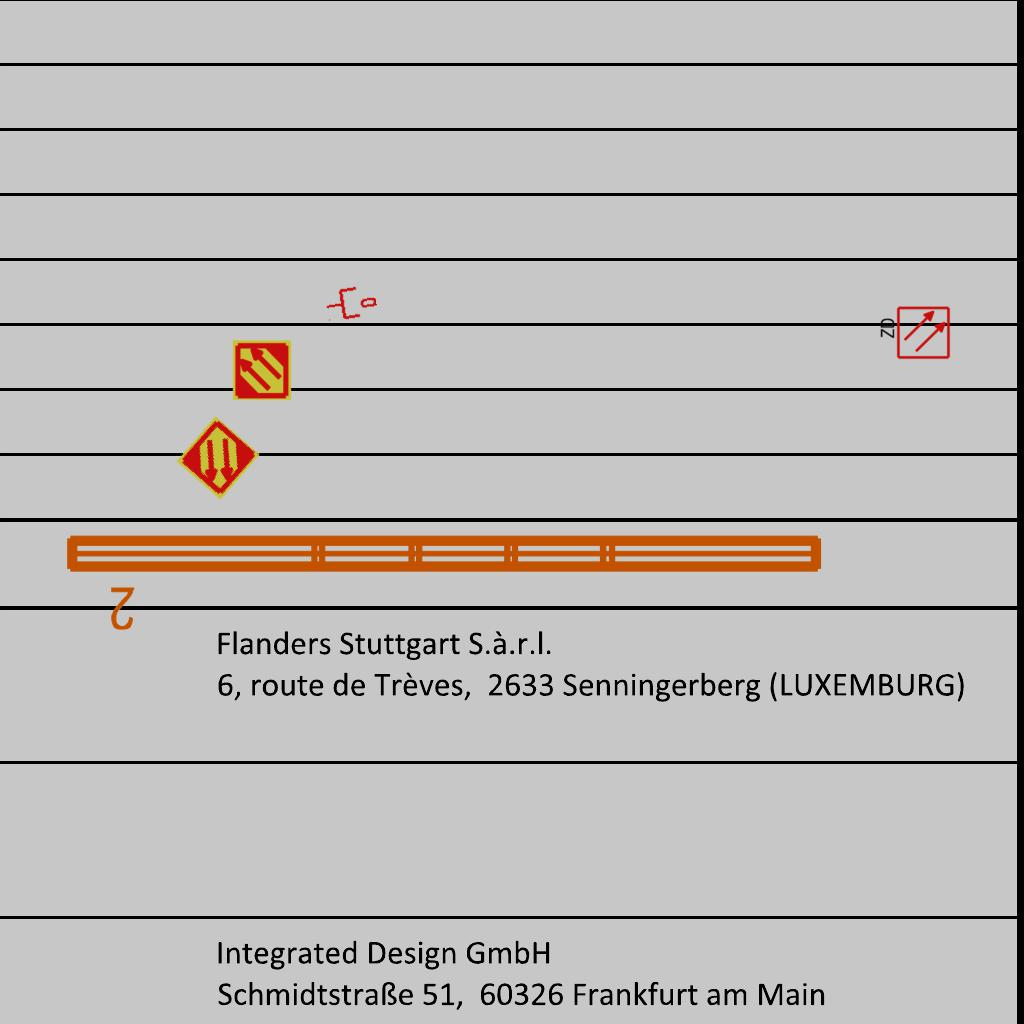ASR_Ansaugrauchmelder: (174, 414, 262, 502), (231, 339, 293, 401)
Ambulanz_Pendelleuchte_LED: (58, 523, 832, 635)
Datenanschluss_einfach: (323, 282, 379, 324)
ZD_Melder_in_Zwischendecke_mit_Revisionsoeffnung_mind_40_x_40_cm: (877, 305, 951, 362)
